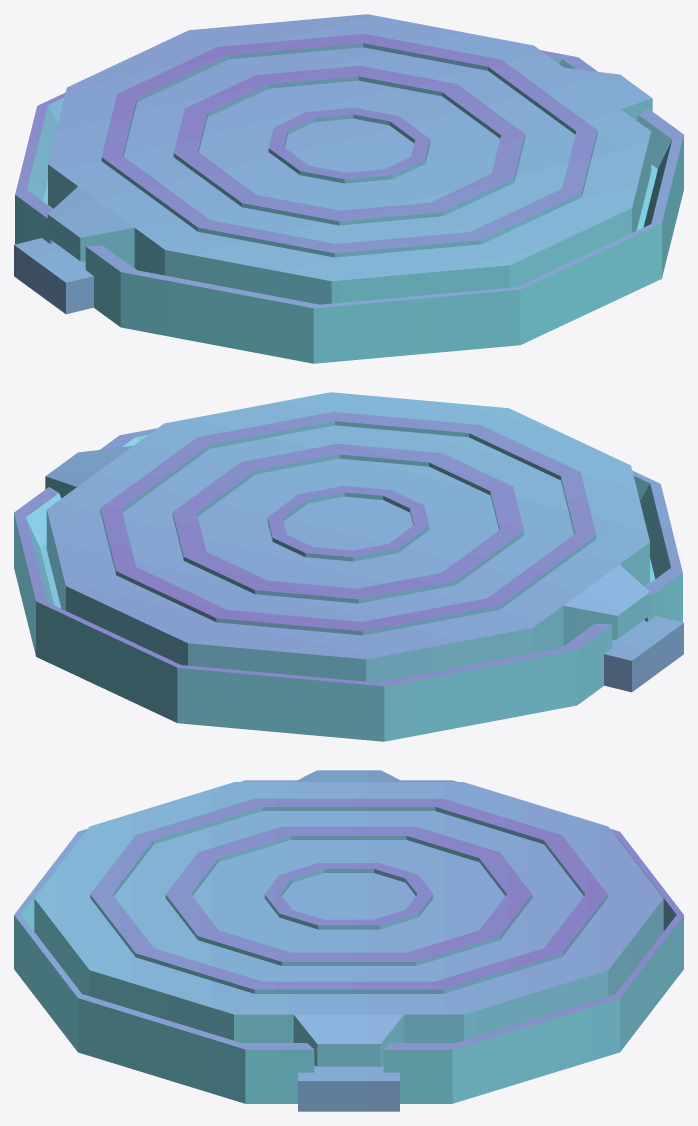
File: manhole.obj
3 renders of one model, top to bottom at view 1: azimuth 30°, elevation 25°; view 2: azimuth 150°, elevation 25°; view 3: azimuth 270°, elevation 25°, orthographic. The views are drawn at different scales.
Visible parts, largest first — view 1: Manhole; view 2: Manhole; view 3: Manhole.
Part boxes in pixels (x1,y1,x2,y2): Manhole: (14,14,683,363); Manhole: (14,392,683,741); Manhole: (14,770,683,1111).
Bounding box in the file's own units: 3.61 × 0.4336 × 3.51.
1 material, 1 textured.
